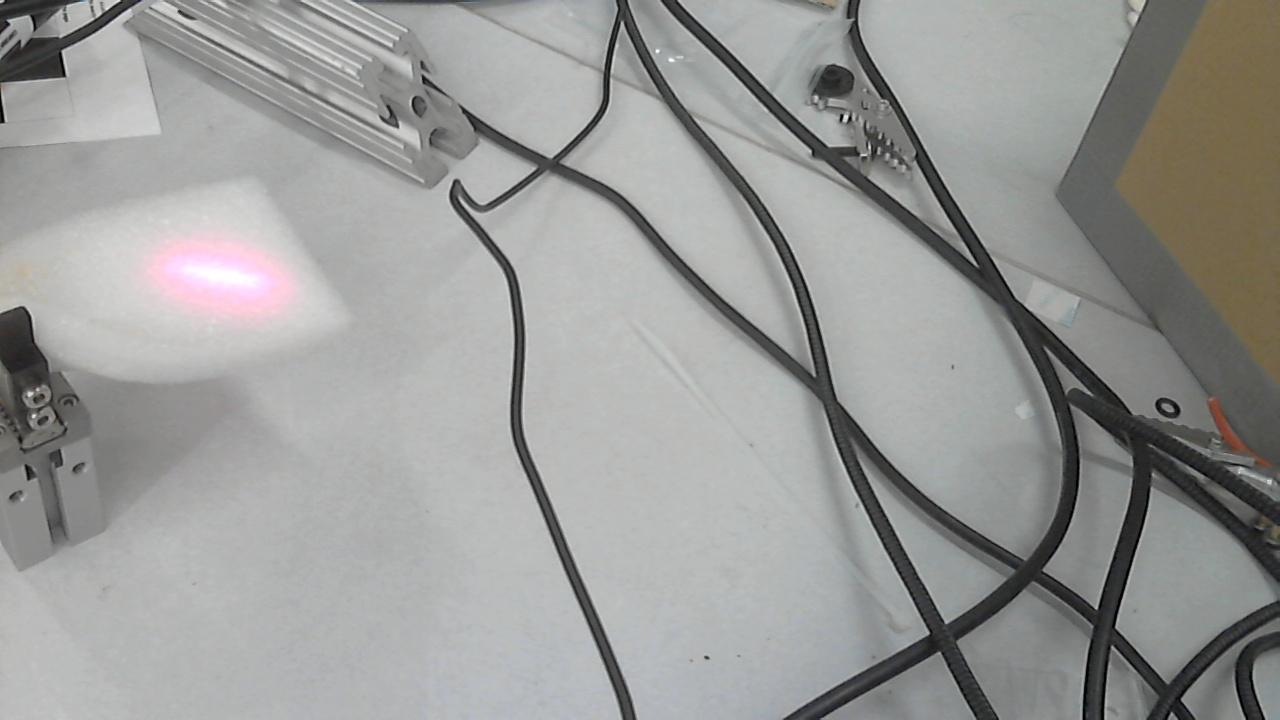Object white rectangular foam block - Material Foam - Color white - Pdfname LpbA: (134, 232, 310, 331)
